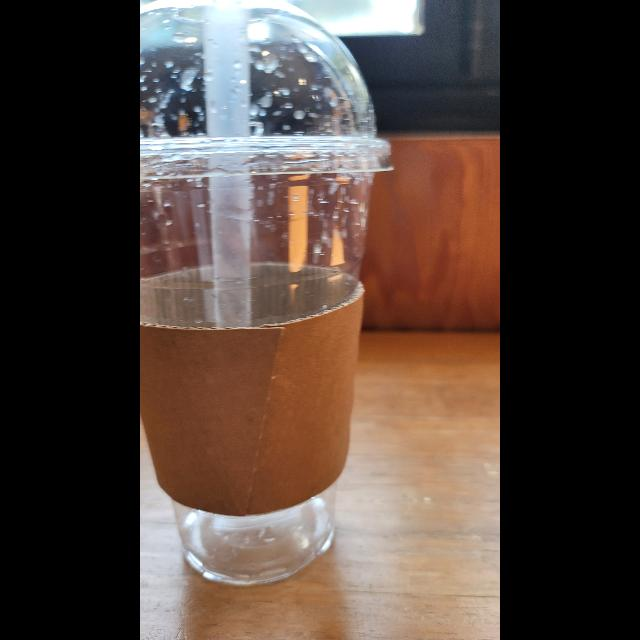plastic_cup: (140, 0, 404, 584)
plastic_cup_lid: (140, 0, 396, 186)
straw: (206, 2, 252, 341)
